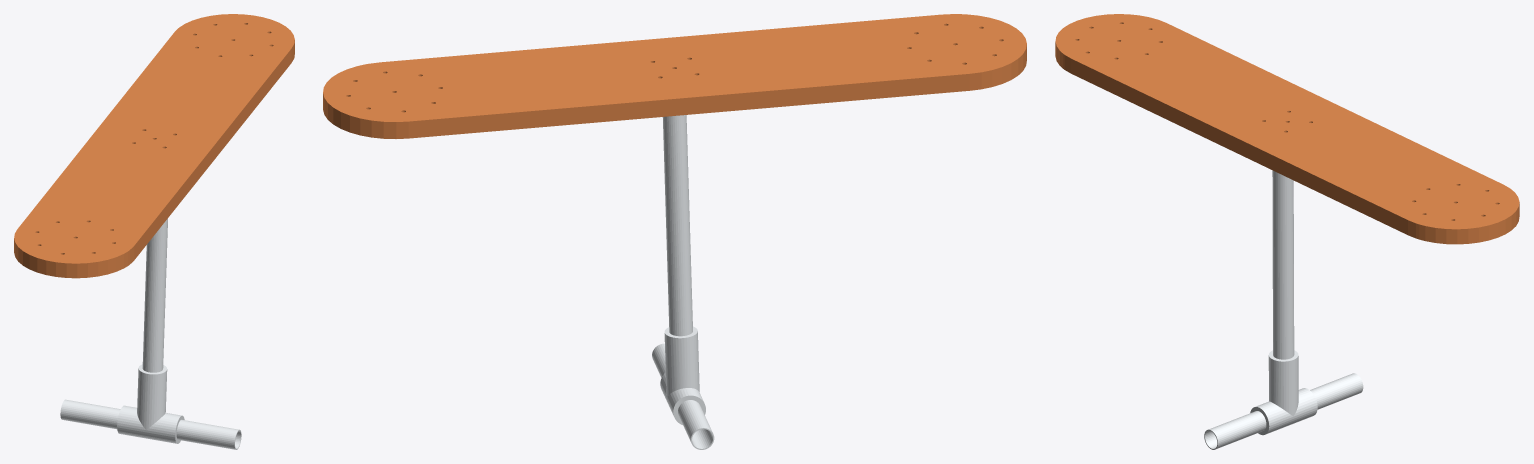
Rendered from pathmarker1.dae.
3 views of the same model, side by side, from view 1: azimuth 30°, elevation 25°; view 2: azimuth 150°, elevation 25°; view 3: azimuth 270°, elevation 25° (orthographic). The views are drawn at different scales.
Parts seen in each view (by area): view 1: Path Marker - Tapa-2.002, Path Marker - Base-2.002; view 2: Path Marker - Tapa-2.002, Path Marker - Base-2.002; view 3: Path Marker - Tapa-2.002, Path Marker - Base-2.002.
Part boxes in pixels (bbox=[...]): Path Marker - Tapa-2.002: bbox=[14, 14, 294, 278]; Path Marker - Base-2.002: bbox=[60, 218, 241, 449]; Path Marker - Tapa-2.002: bbox=[323, 14, 1026, 138]; Path Marker - Base-2.002: bbox=[652, 115, 714, 449]; Path Marker - Tapa-2.002: bbox=[1055, 14, 1519, 244]; Path Marker - Base-2.002: bbox=[1204, 170, 1363, 449].
Size of the model in its own units: 0.6097 by 0.5553 by 0.4051.
